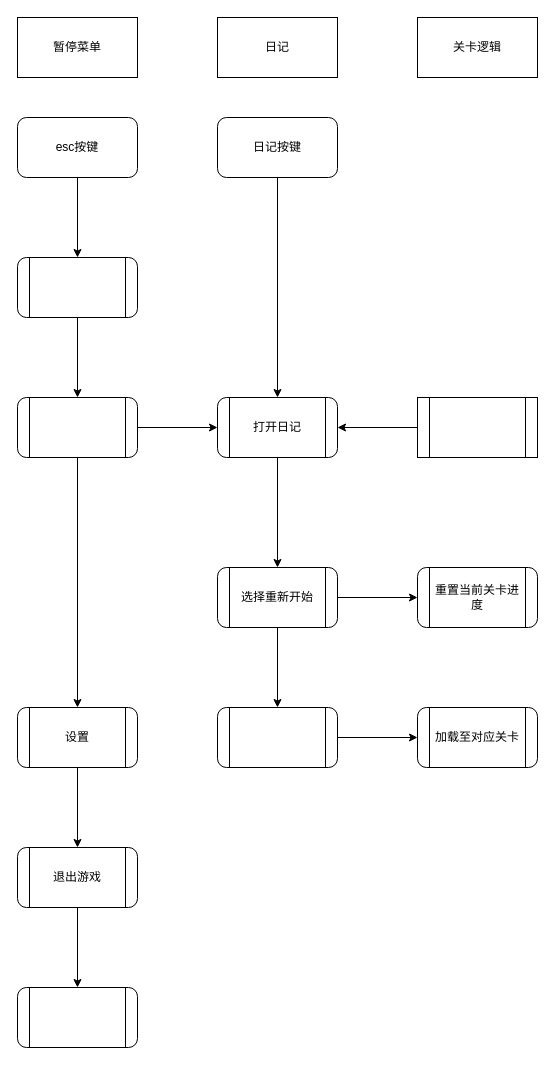
Some shapes in this 555 by 1065 pixel diagram are drawn without their labels. Here are the shapes that lost their labels. From the top down, the centre of each, then its label:
point (77, 287): 打开菜单
point (77, 427): 日记按钮
point (477, 427): 读取关卡进度
point (277, 737): 选择其他关卡页面的读取功能
point (77, 1017): 继续游戏
